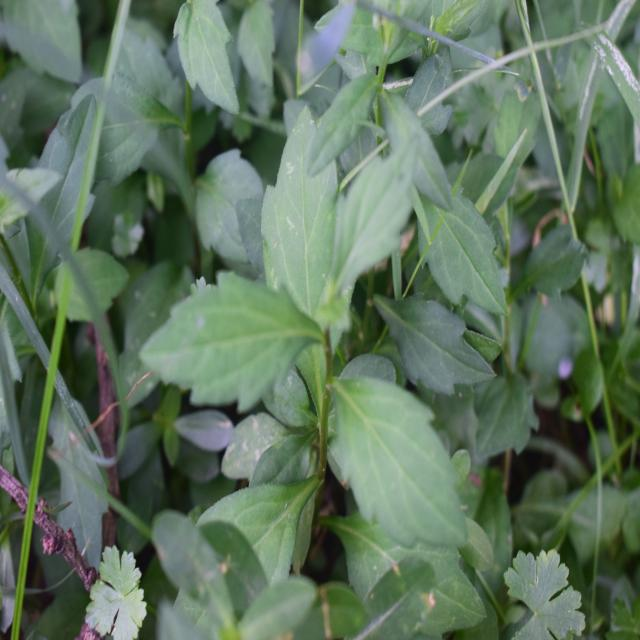Indian aster: (166, 118, 434, 564)
